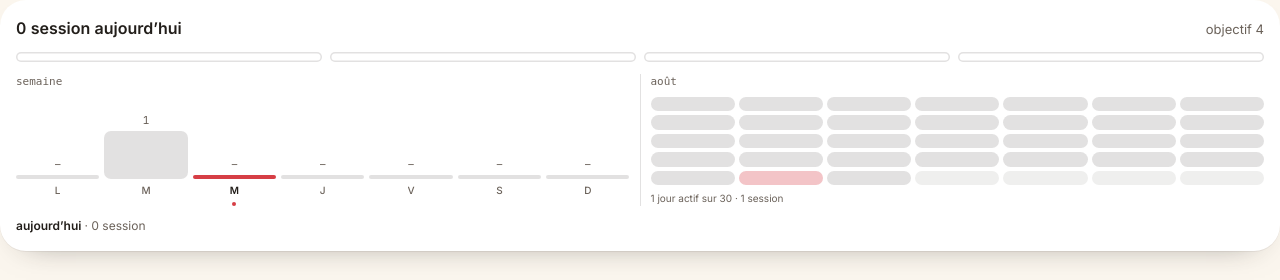
Test: both languages › names a picked day in French
Step 1. Click the button "1 m" → x=146, y=151, box x1=104 y1=96 x2=188 y2=206
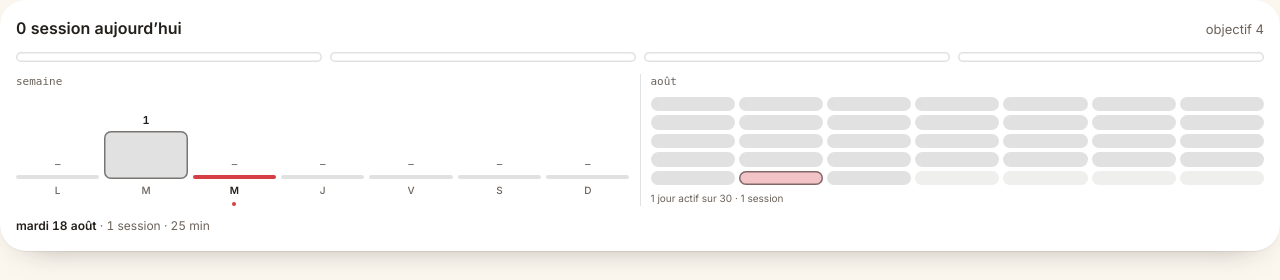
Now the message reads "mardi 18 août · 1 session · 25 min", box x1=16 y1=218 x2=210 y2=233
